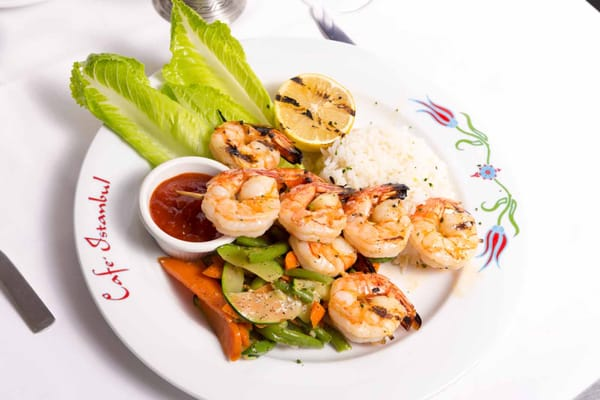curry: (69, 2, 279, 168)
sandwich: (0, 247, 56, 334)
sushi: (138, 156, 236, 260)
